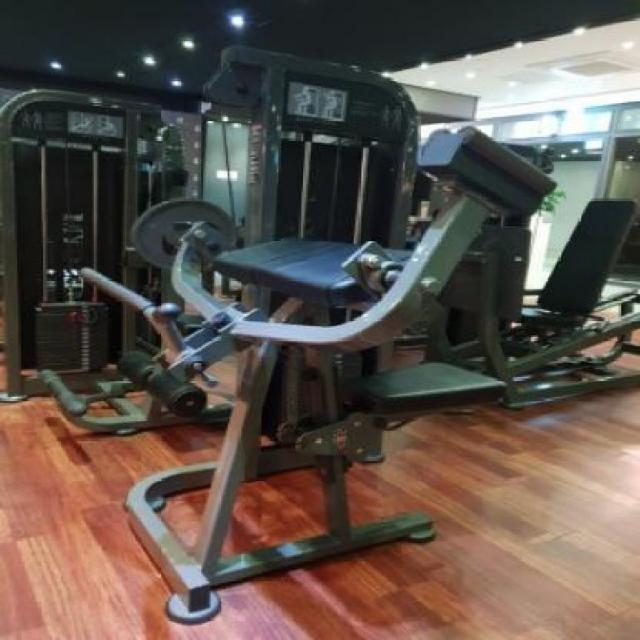arm curl machine: (113, 232, 504, 626)
